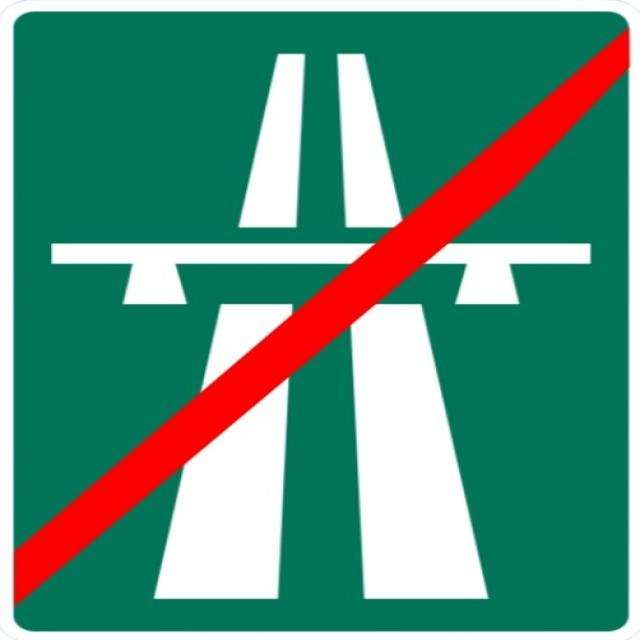highway_exit: (14, 10, 632, 632)
